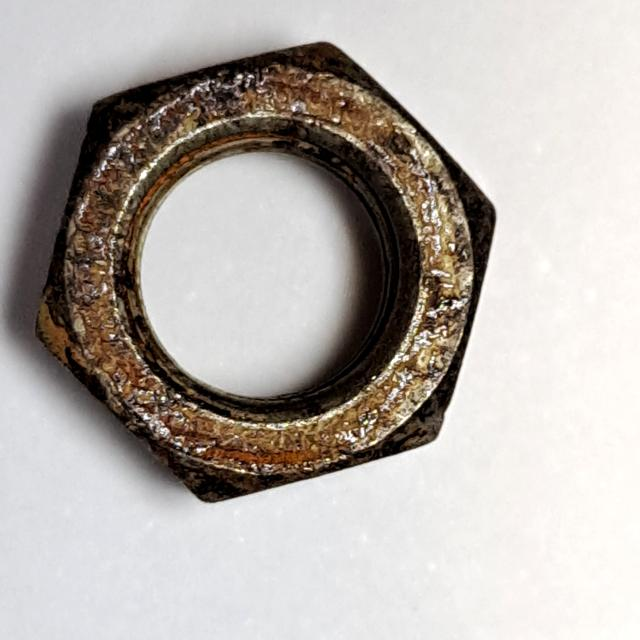Rust: (21, 28, 511, 538)
